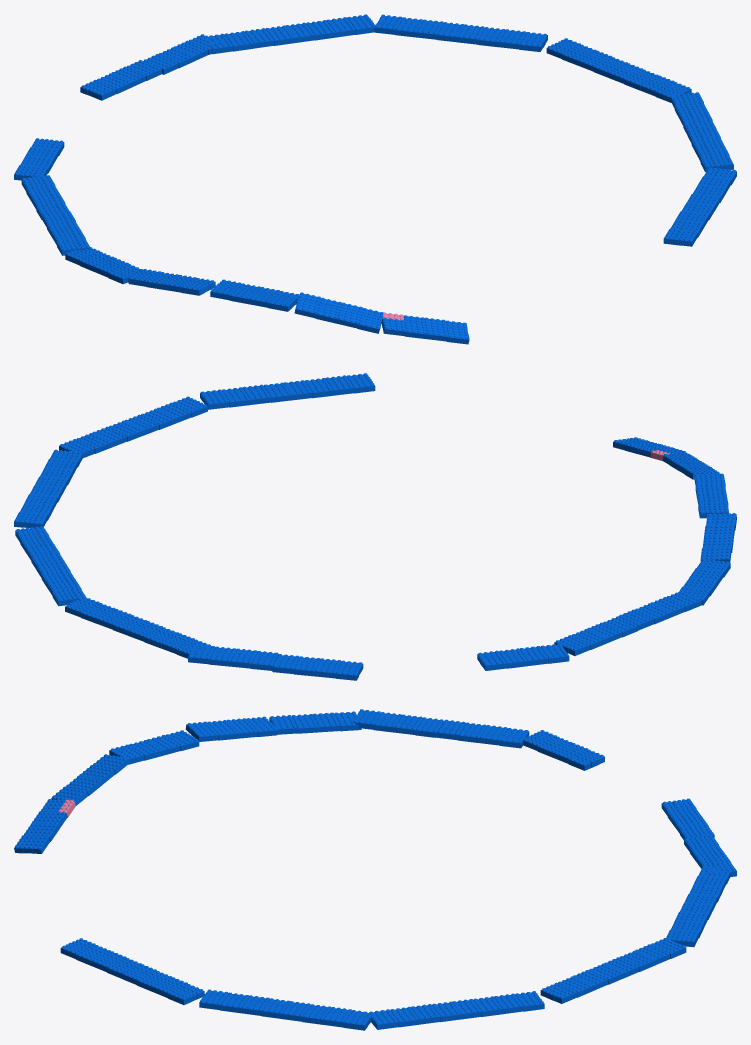
Rendered from bricks castillo.fbx.
3 renders of one model, top to bottom at view 1: azimuth 30°, elevation 25°; view 2: azimuth 150°, elevation 25°; view 3: azimuth 270°, elevation 25°, orthographic.
Parts seen in each view (by area): view 1: Blockes; view 2: Blockes; view 3: Blockes.
Part boxes in pixels (x1,y1,x2,y2): Blockes: (14,14,736,344); Blockes: (14,373,736,680); Blockes: (14,709,736,1030).
Size of the model in its own units: 4009 by 235 by 3882.
